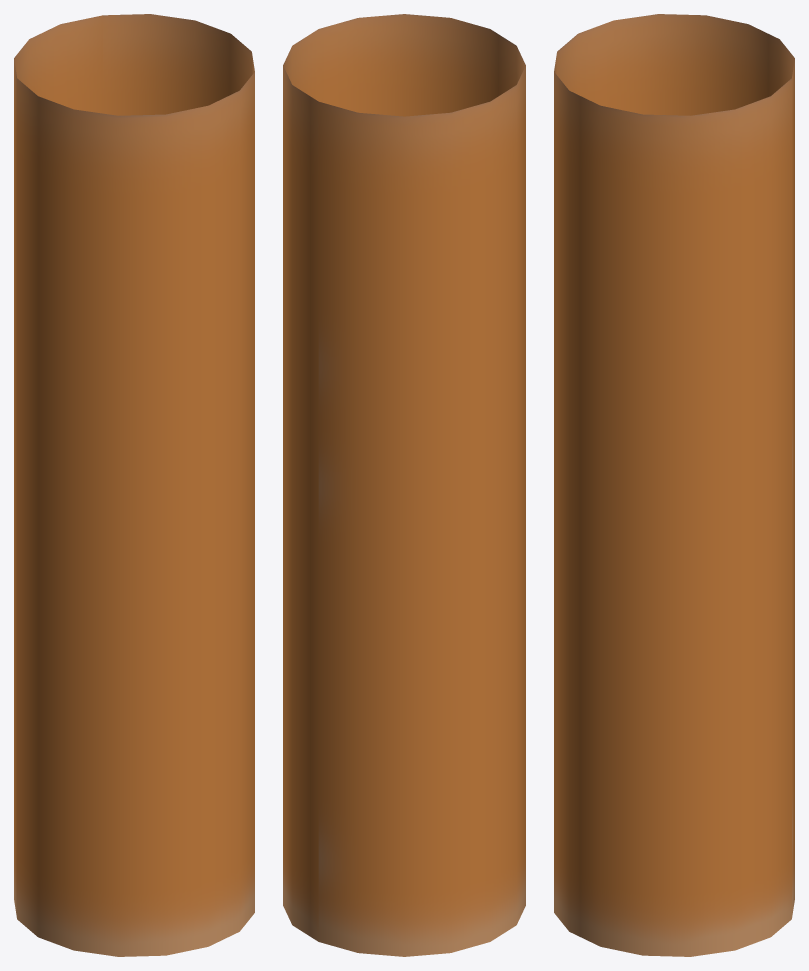
File: 357BulletFired.fbx
The picture shows the model from 3 angles, left to right: view 1: azimuth 30°, elevation 25°; view 2: azimuth 150°, elevation 25°; view 3: azimuth 270°, elevation 25°; orthographic projection.
Parts seen in each view (by area): view 1: 357BulletFired; view 2: 357BulletFired; view 3: 357BulletFired.
Part boxes in pixels (<box>): 357BulletFired: <box>14,14,254,956</box>; 357BulletFired: <box>283,14,525,956</box>; 357BulletFired: <box>554,14,794,956</box>.
Bounding box in the file's own units: 0.012 × 0.0462 × 0.012.
